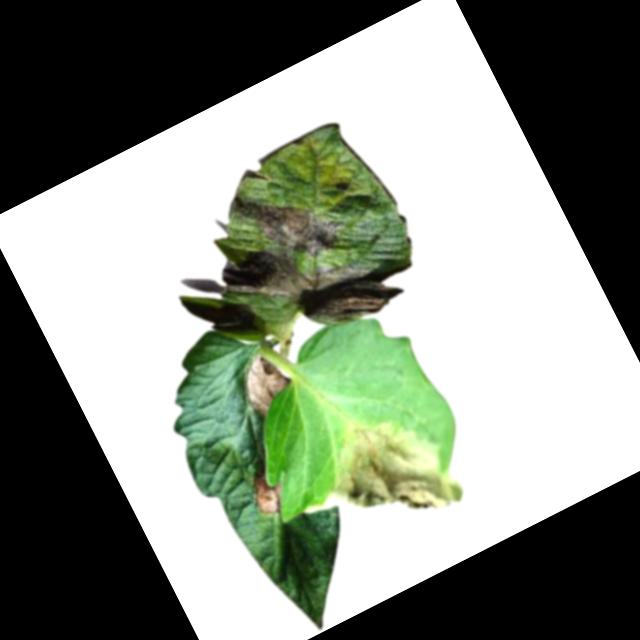Late_blight: (191, 132, 433, 364), (302, 397, 469, 559), (228, 344, 298, 421), (242, 468, 294, 524)
